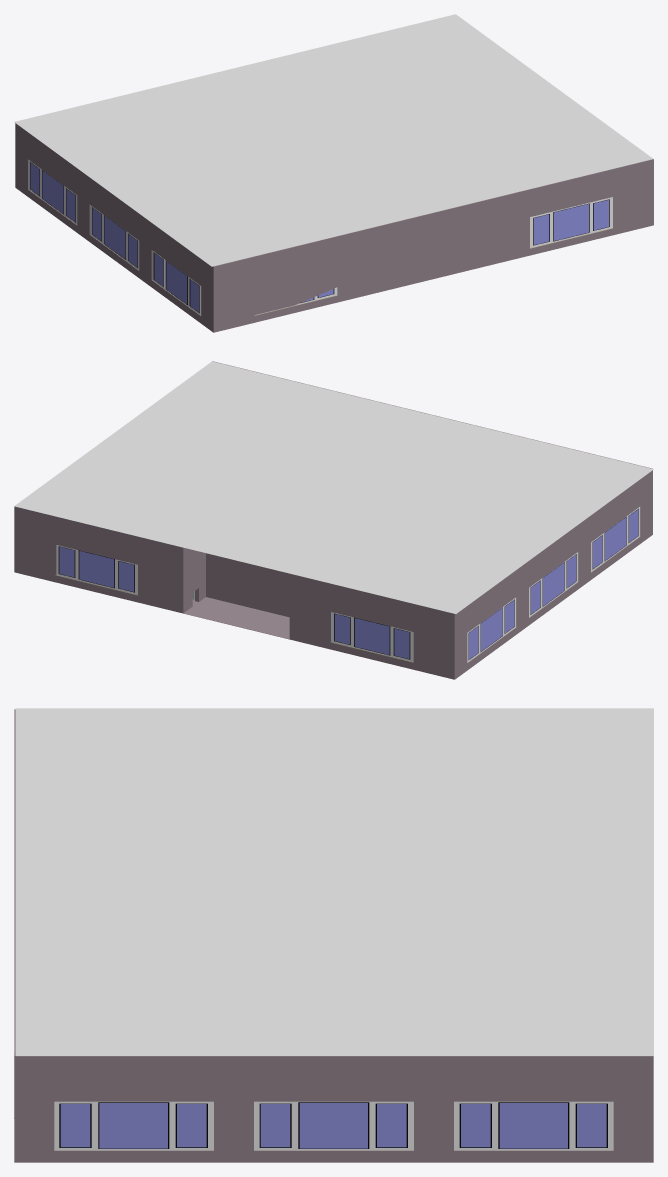
Rendered from Comedor_2.fbx.
The picture shows the model from 3 angles, top to bottom: view 1: azimuth 30°, elevation 25°; view 2: azimuth 150°, elevation 25°; view 3: azimuth 270°, elevation 25°; orthographic projection. The views are drawn at different scales.
Visible parts, largest first — view 1: Plano.001, Plano.004, Plano.005, Window.003, Window.008, Window.009, Window.007, Plano.007; view 2: Plano.001, Plano.002, Plano.003, Plano.005, Plano.008, Plano.007, Window, Window.002, Window.007, Window.008, Window.009, Plano.010 (+1 smaller); view 3: Plano.001, Plano.006, Window.004, Window.005, Window.006, Plano.004, Plano.003.
Part boxes in pixels (x1,y1,x2,y2): Plano.001: (14,14,652,266); Plano.004: (211,159,653,332); Plano.005: (15,124,217,331); Window.003: (530,197,612,248); Window.008: (90,205,139,270); Window.009: (152,250,201,315); Window.007: (28,160,77,224); Plano.007: (16,188,653,332); Plano.001: (14,361,653,613); Plano.002: (289,574,456,679); Plano.003: (14,506,179,612); Plano.005: (450,472,650,679); Plano.008: (206,553,289,617); Plano.007: (15,535,651,679); Window: (330,612,413,662); Window.002: (55,545,138,595); Window.007: (467,597,516,662); Window.008: (529,552,578,617); Window.009: (591,506,640,572); Plano.010: (179,547,205,613); Plano.001: (15,708,653,1056); Plano.006: (14,1053,653,1162); Window.004: (454,1101,613,1150); Window.005: (254,1101,413,1150); Window.006: (54,1101,213,1150); Plano.004: (14,709,21,1162); Plano.003: (646,1056,653,1162).
Bounding box in the file's own units: 47958 × 6851 × 37295.
